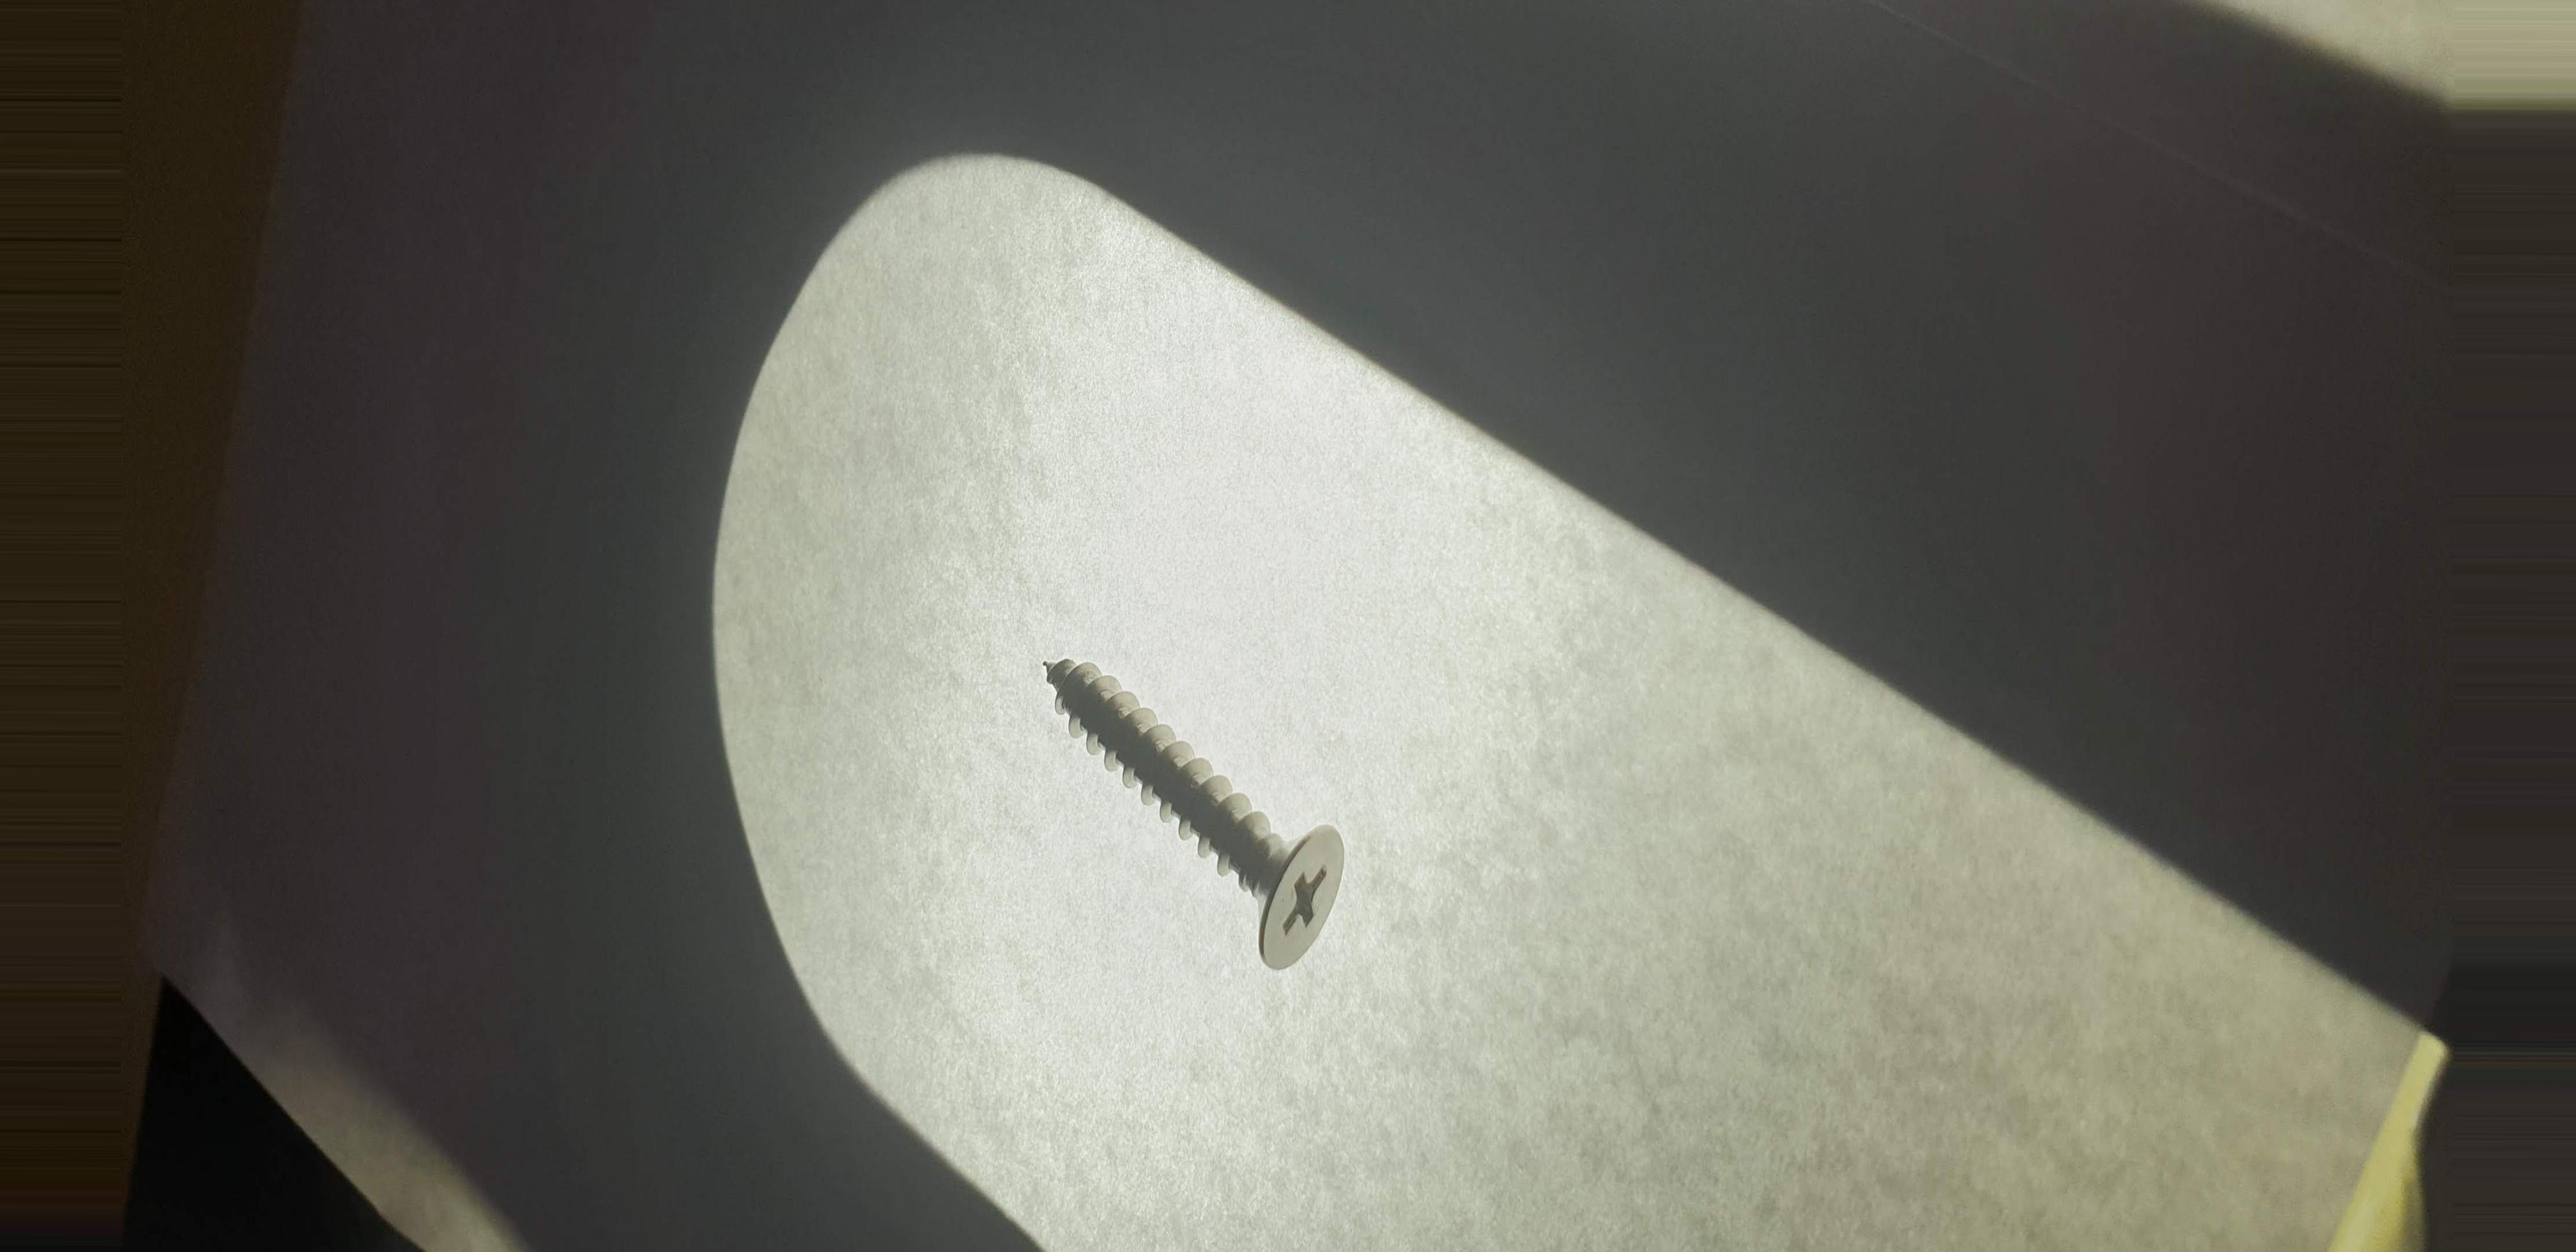S004: (989, 618, 1411, 1015)
